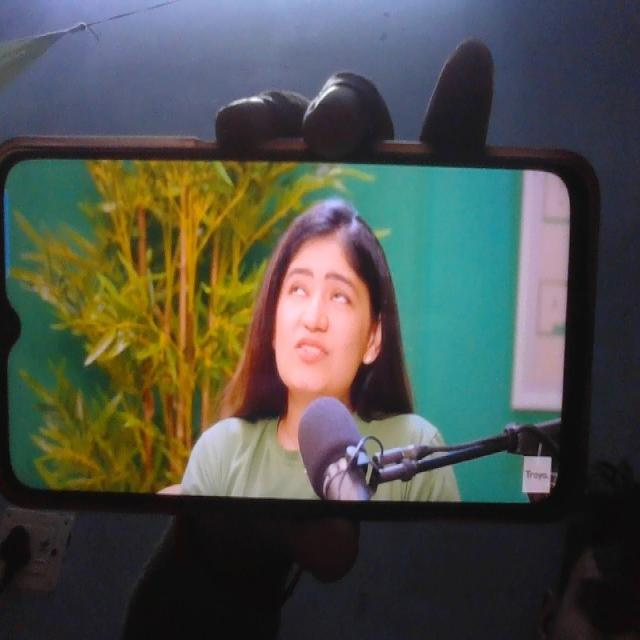fake: (267, 191, 376, 396)
